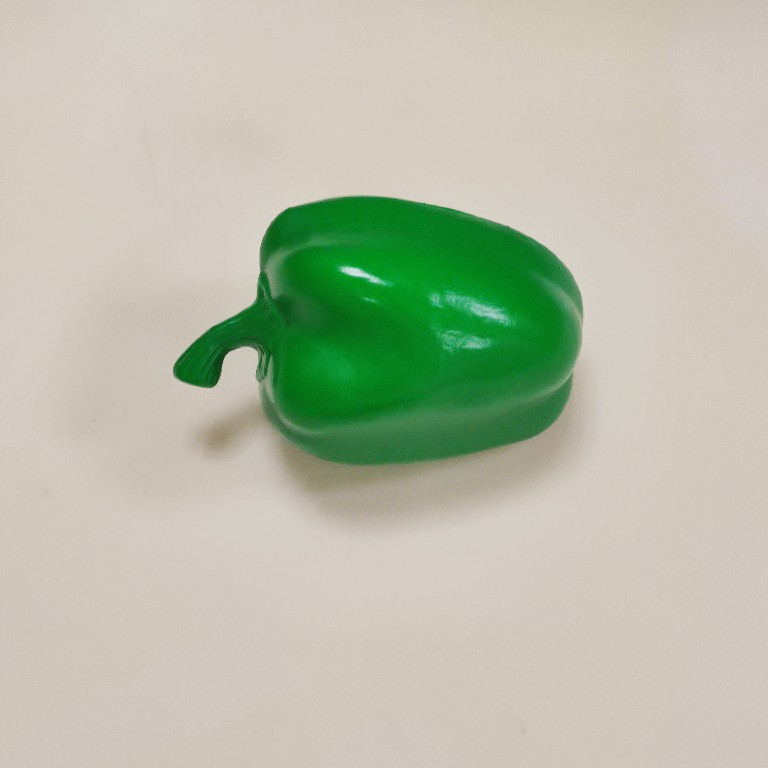fruit_pepper: (169, 194, 587, 470)
